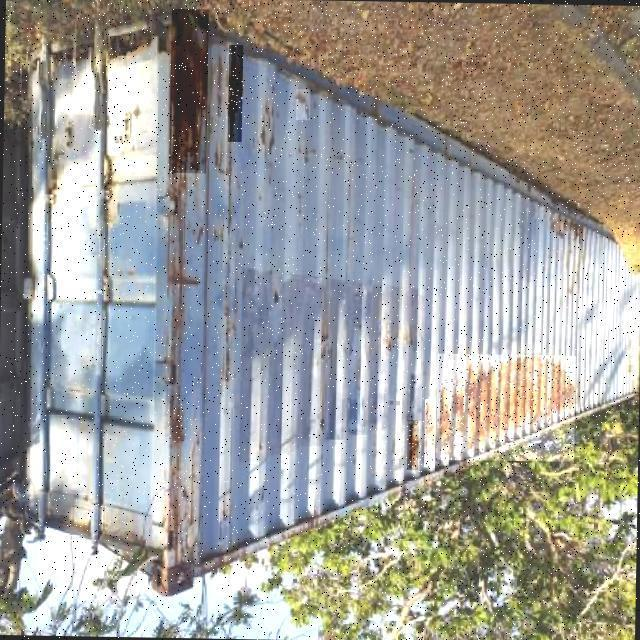rust: (437, 355, 577, 463), (170, 9, 210, 174), (229, 46, 245, 143), (168, 396, 186, 444), (425, 400, 437, 468), (408, 421, 420, 471), (297, 90, 312, 121)
